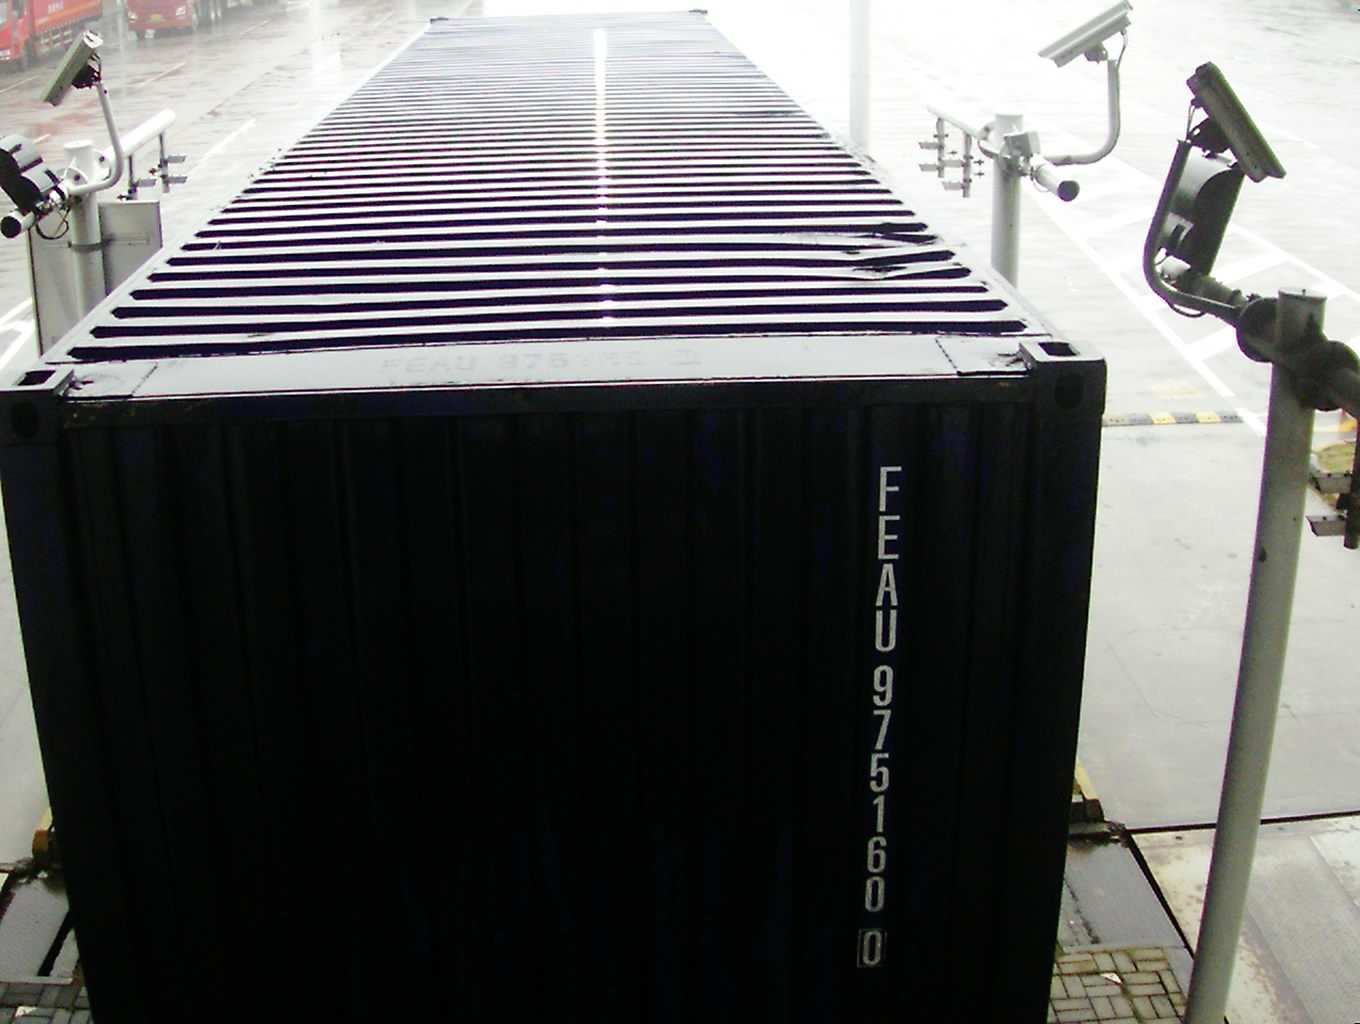words: (861, 457, 907, 976)
